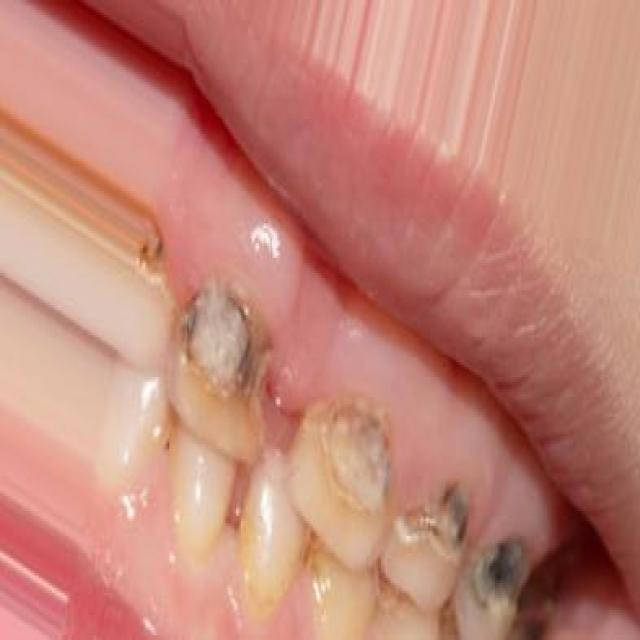caries: (175, 270, 274, 457), (301, 382, 396, 528), (393, 459, 468, 579), (467, 512, 533, 632)
